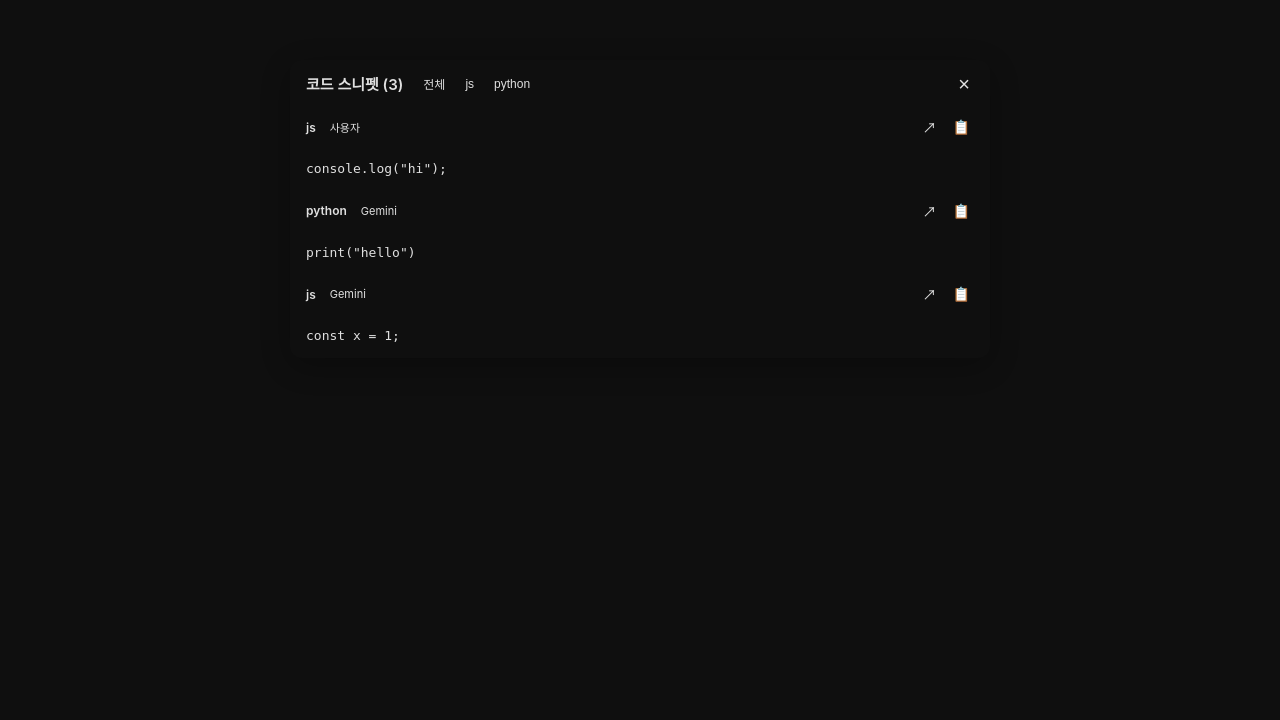
Test case: CodeSnippets › shows checkmark after successful copy
This screenshot has width=1280, height=720.
Click the button named "코드 복사".
click(961, 127)  # box [948, 117, 974, 137]
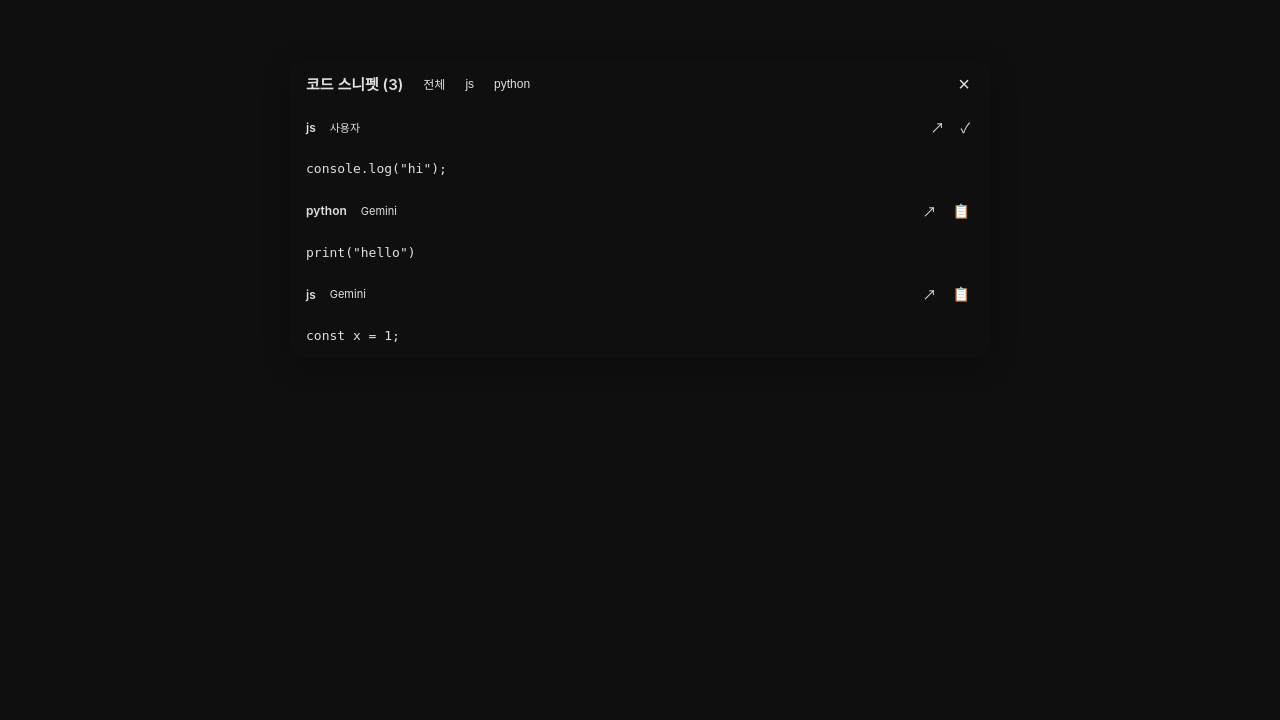
Result: the button with class "code-snippet-copy-btn" reads "✓" at [956, 115, 974, 139]
